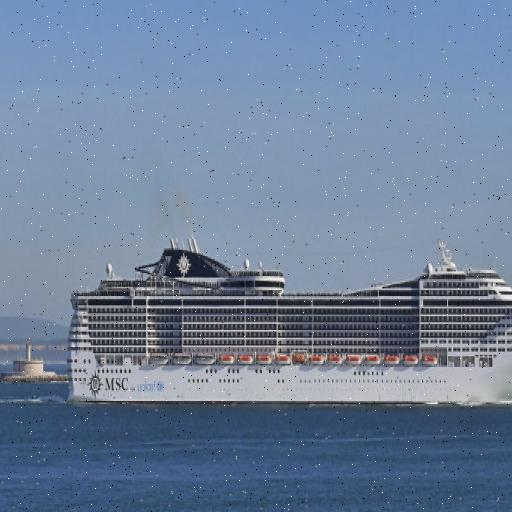cruises: (59, 228, 512, 416)
